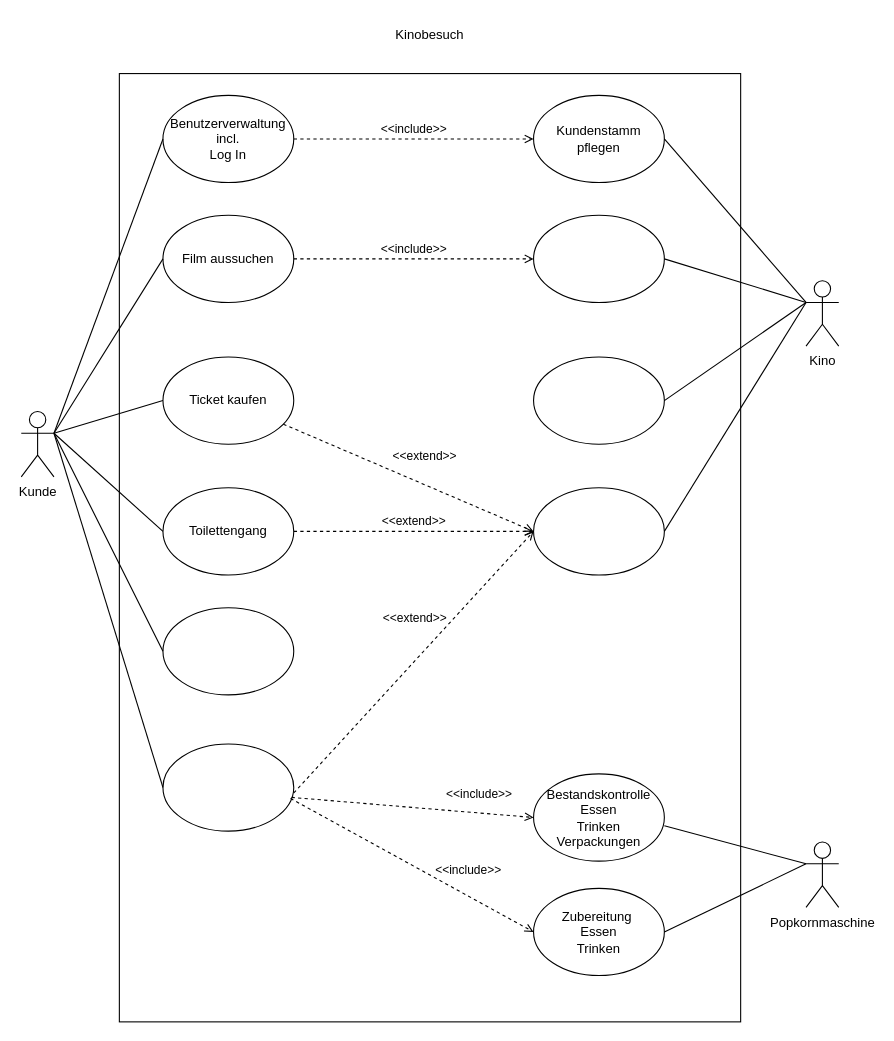
The diagram is 894 pixels wide and 1041 high, and some of its shapes have lost their labels. The box of each missing label's shape, as (x1, y1, x2, y2) in pixels:
Abrechnung an Kunden: (532, 487, 664, 575)
Essen/Trinken kaufen: (162, 743, 294, 831)
Kinoprogramm pflegen: (532, 214, 664, 302)
Kinosaal betreten: (162, 607, 294, 695)
Newsverteilung managen: (532, 356, 664, 444)
